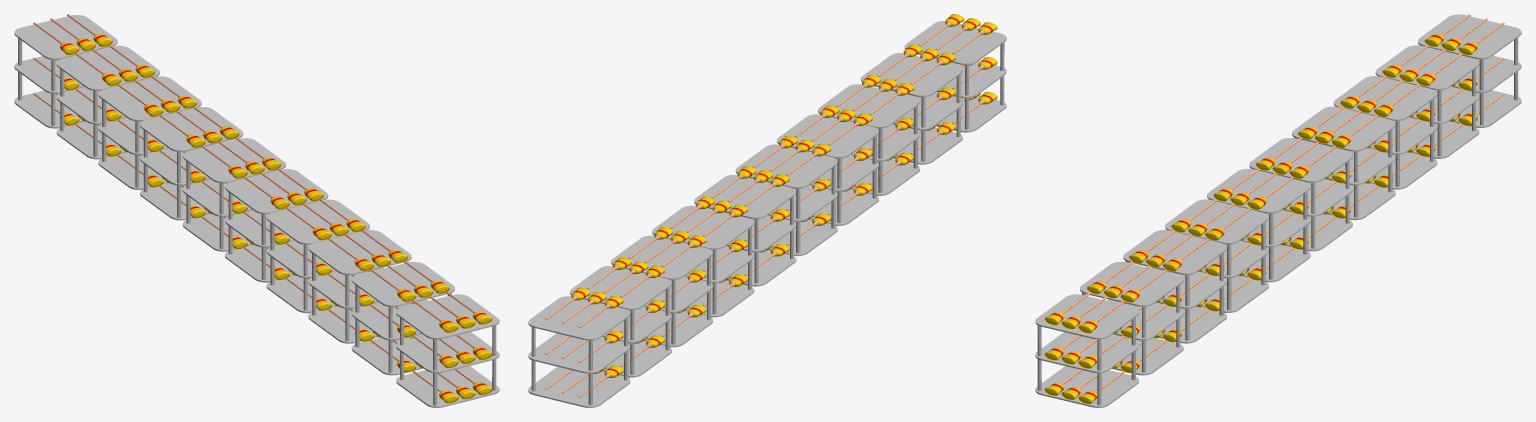
File: EstanteEscoba.obj
The picture shows the model from 3 angles, left to right: view 1: azimuth 30°, elevation 25°; view 2: azimuth 150°, elevation 25°; view 3: azimuth 330°, elevation 25°; orthographic projection.
Visible parts, largest first — view 1: Estantes, Escoba; view 2: Estantes, Escoba; view 3: Estantes, Escoba.
Boxes of the visible parts, x1,y1,x2,y2 form: Estantes: (14,15,499,407); Escoba: (33,14,492,403); Estantes: (528,21,1006,407); Escoba: (545,14,997,397); Estantes: (1035,14,1521,407); Escoba: (1044,14,1504,404).
Size of the model in its own units: 2 by 2.12 by 20.53.
